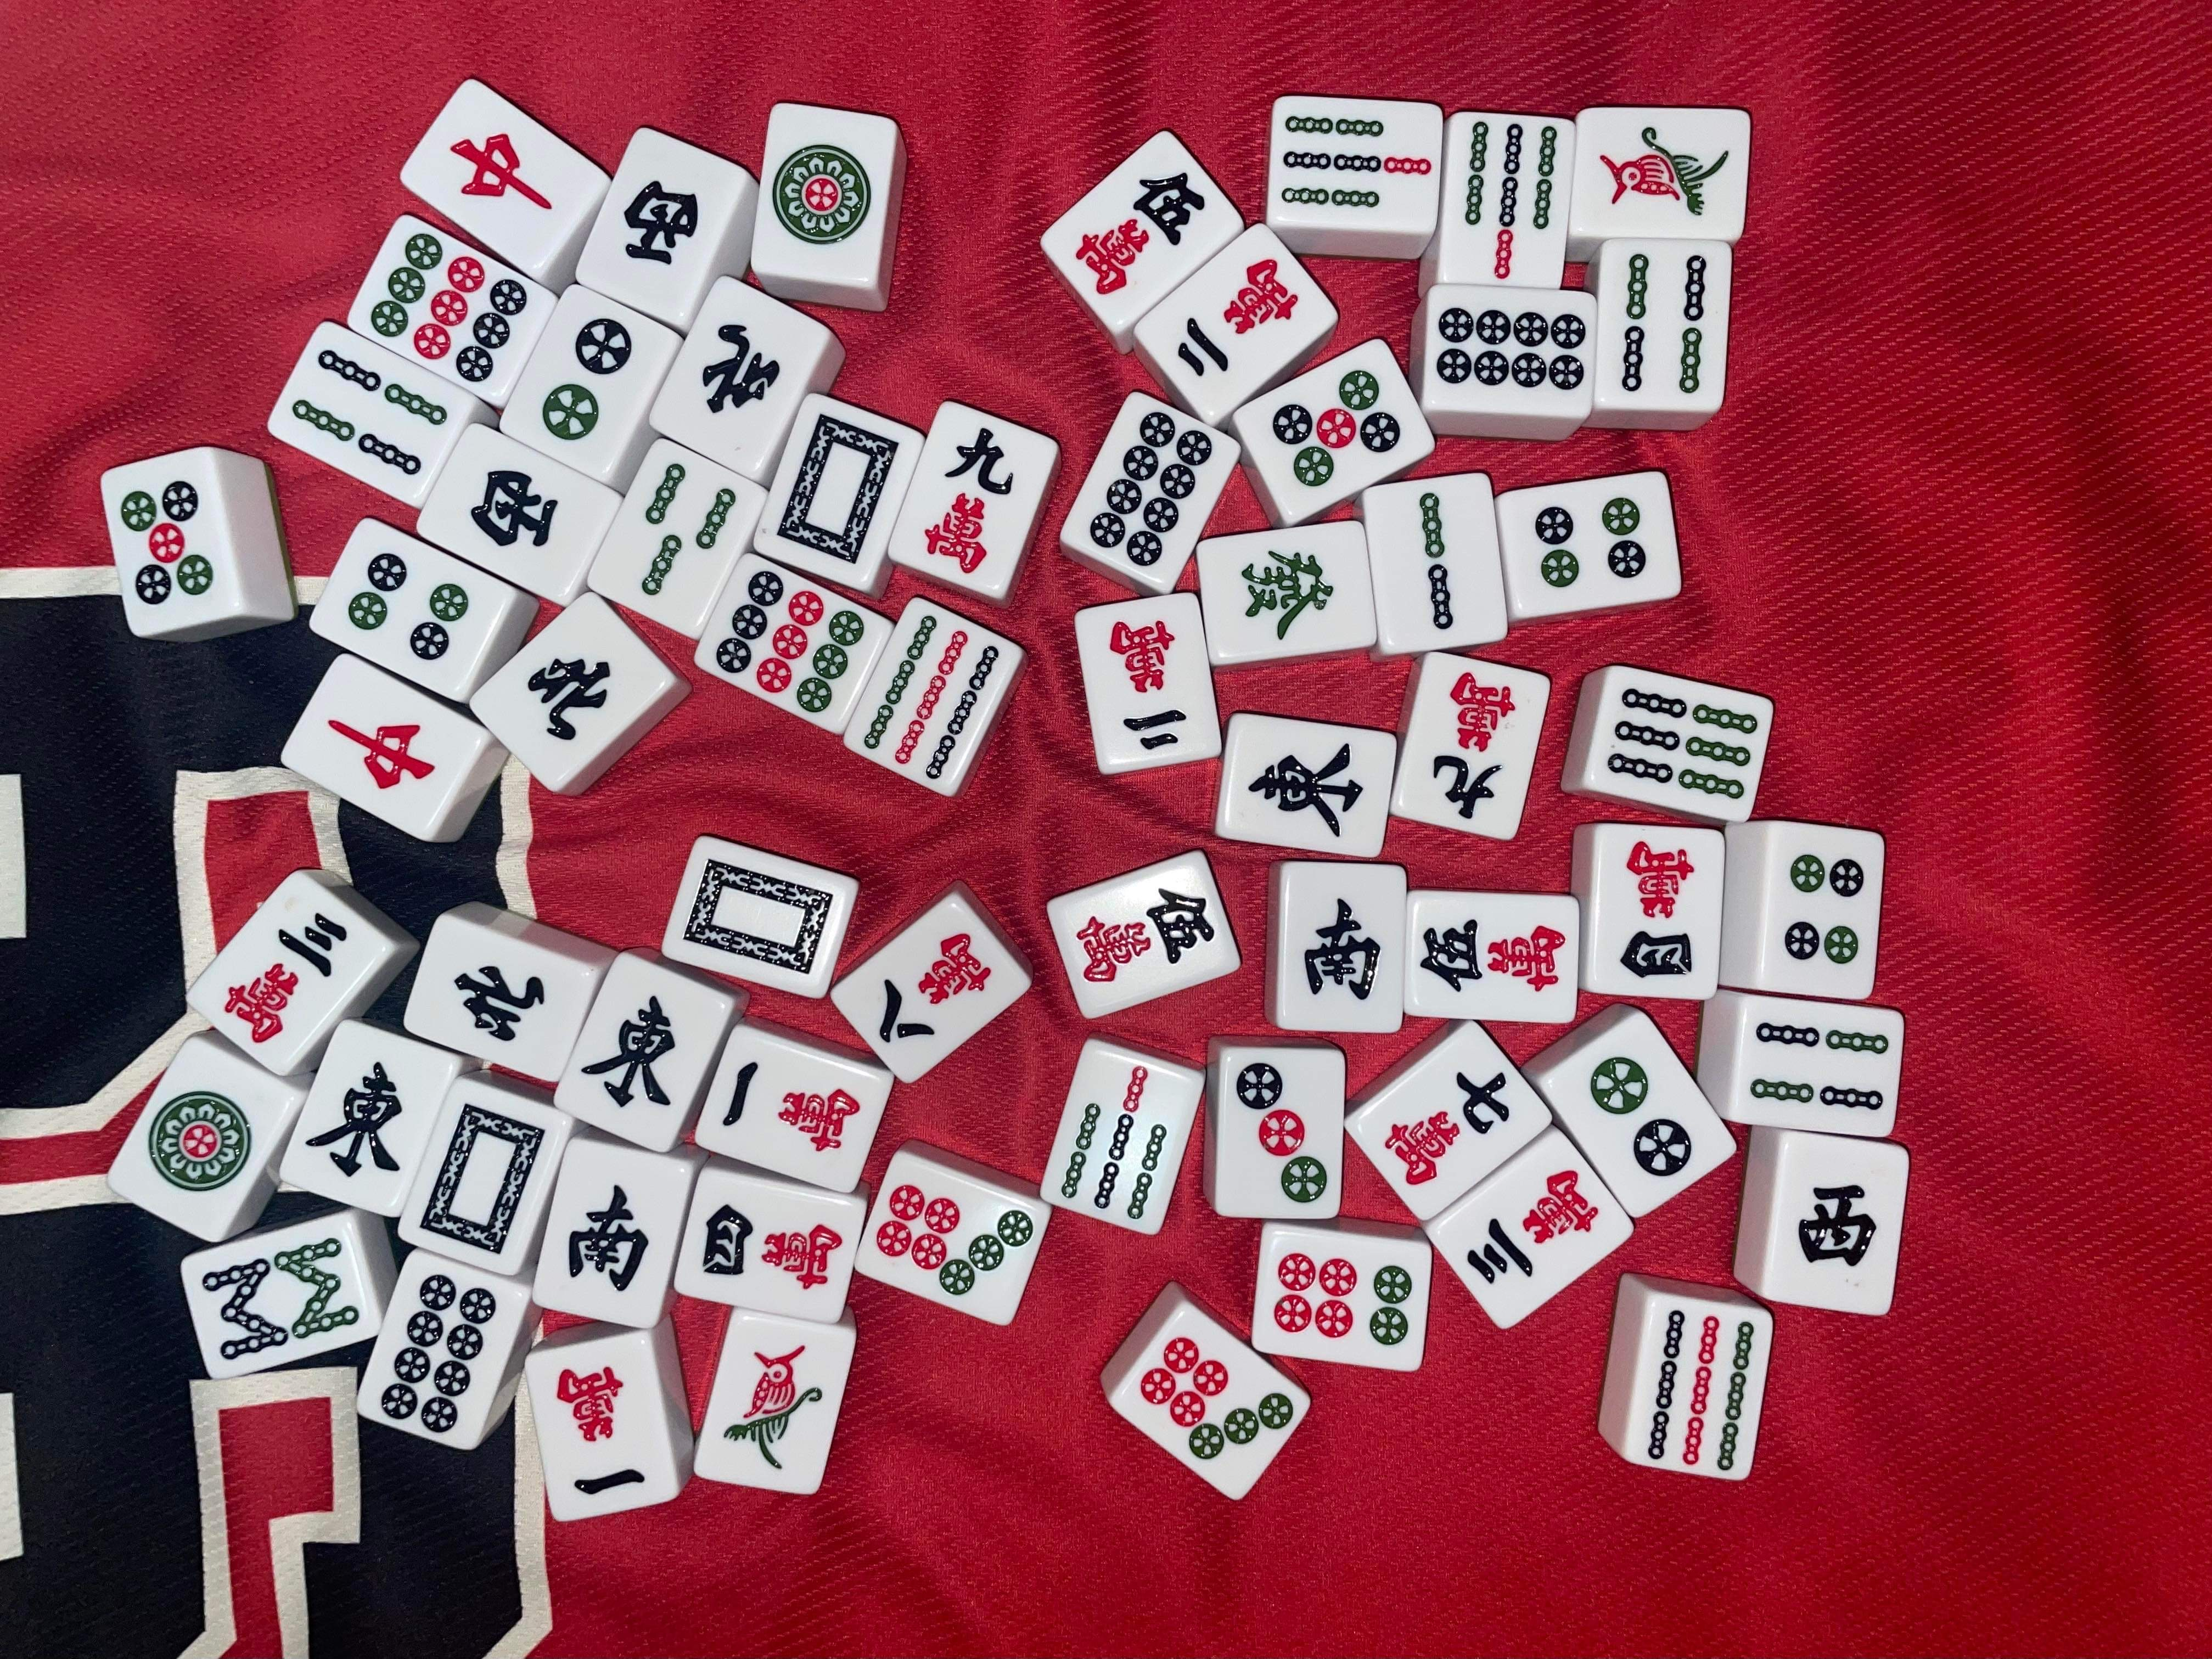b-1: (723, 1343, 824, 1472), (1600, 126, 1734, 217)
b-2: (1411, 490, 1464, 636)
b-3: (641, 461, 737, 598)
b-4: (291, 350, 451, 478), (1748, 1020, 1890, 1112), (1620, 250, 1707, 398)
b-6: (1608, 685, 1760, 801)
b-7: (1058, 1065, 1168, 1220), (1279, 110, 1432, 218), (1463, 120, 1559, 283)
b-8: (200, 1238, 361, 1359), (382, 1270, 495, 1436)
b-9: (1649, 1309, 1753, 1475)
c-1: (723, 1059, 864, 1158), (554, 1365, 653, 1495)
c-2: (1176, 256, 1304, 376), (1108, 616, 1191, 751)
c-3: (221, 910, 349, 1044), (1467, 1170, 1601, 1286)
c-4: (697, 1203, 846, 1294), (1620, 839, 1698, 981)
c-5: (1076, 172, 1204, 296), (1069, 884, 1217, 989), (1417, 919, 1565, 998)
c-7: (1385, 1071, 1511, 1186)
c-8: (879, 933, 993, 1045)
c-9: (924, 426, 1017, 576), (1430, 668, 1519, 823)
d-1: (771, 142, 874, 245), (147, 1090, 251, 1193)
d-2: (1588, 1053, 1695, 1179), (540, 315, 635, 442)
d-3: (1233, 1059, 1327, 1204)
d-4: (345, 552, 471, 667), (1783, 849, 1870, 980), (1534, 496, 1649, 589)
d-5: (1272, 370, 1402, 487), (115, 479, 218, 609)
d-6: (1273, 1251, 1414, 1345)
d-7: (1139, 1336, 1295, 1460)
d-8: (1089, 410, 1212, 567), (1435, 305, 1588, 393)
d-9: (369, 232, 530, 383), (863, 615, 999, 779), (716, 572, 865, 715), (876, 1184, 1034, 1298)
honors-east: (577, 993, 688, 1111), (303, 1060, 409, 1177), (1247, 742, 1365, 839)
honors-green: (1237, 547, 1341, 645)
honors-north: (450, 957, 551, 1044), (696, 322, 785, 418), (524, 655, 613, 744)
honors-red: (317, 709, 444, 791), (450, 127, 554, 220)
honors-south: (561, 1180, 653, 1294), (1304, 897, 1382, 1000), (1798, 1183, 1877, 1269)
honors-west: (463, 463, 562, 552), (622, 177, 703, 265)
honors-white: (418, 1104, 547, 1256), (777, 412, 901, 565), (680, 858, 834, 976)
